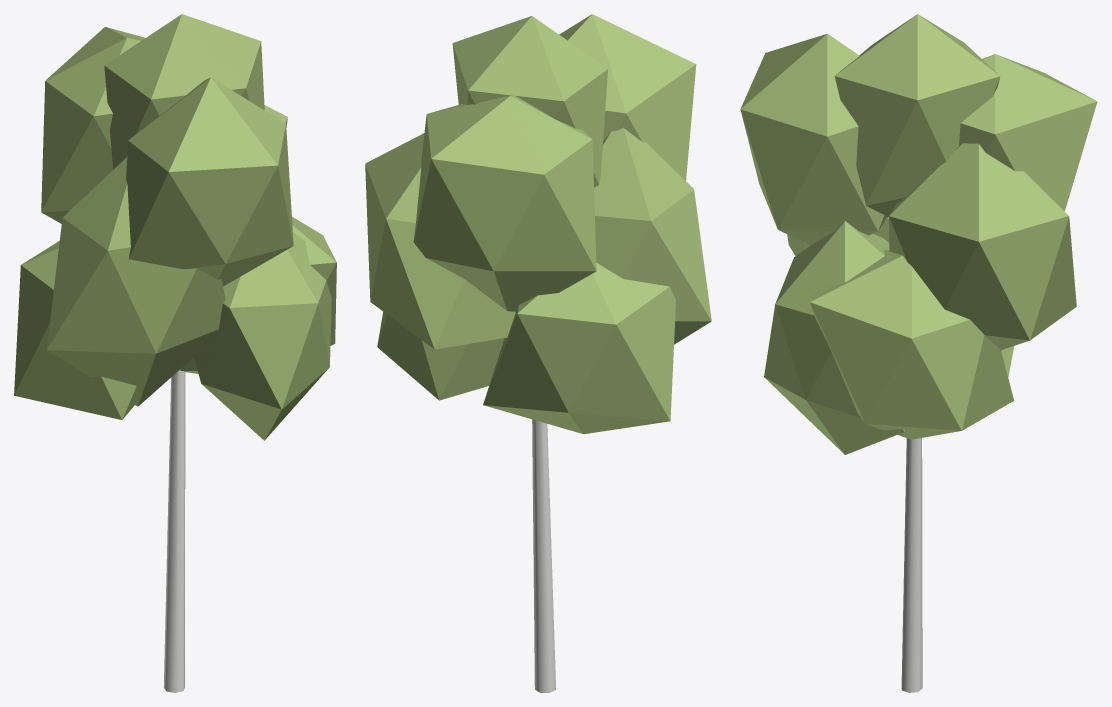
The model's file is birch.glb.
3 views of the same model, side by side, from view 1: azimuth 30°, elevation 25°; view 2: azimuth 150°, elevation 25°; view 3: azimuth 270°, elevation 25° (orthographic).
Parts seen in each view (by area): view 1: birch; view 2: birch; view 3: birch.
Boxes of the visible parts, box(x1,y1,x2,y2) form: birch: box(14, 14, 336, 692); birch: box(365, 14, 711, 692); birch: box(740, 14, 1097, 692).
Size of the model in its own units: 5.63 by 12.21 by 5.81.
